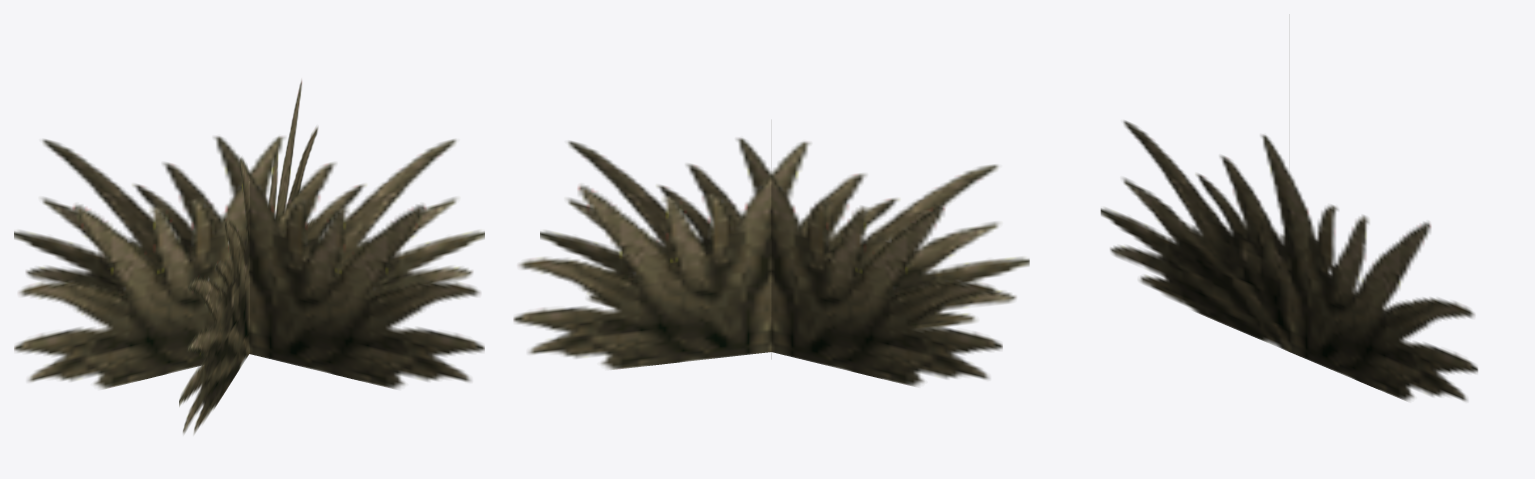
The model's file is lp_sprout_c.glb.
The picture shows the model from 3 angles, left to right: view 1: azimuth 30°, elevation 25°; view 2: azimuth 150°, elevation 25°; view 3: azimuth 270°, elevation 25°; orthographic projection.
Visible parts, largest first — view 1: lp_sprout_c; view 2: lp_sprout_c; view 3: lp_sprout_c.
Part boxes in pixels (<box>): lp_sprout_c: <box>14,80,484,433</box>; lp_sprout_c: <box>513,138,1029,386</box>; lp_sprout_c: <box>1100,120,1477,401</box>.
Size of the model in its own units: 0.4342 by 0.2019 by 0.376.
1 material, 1 textured.
